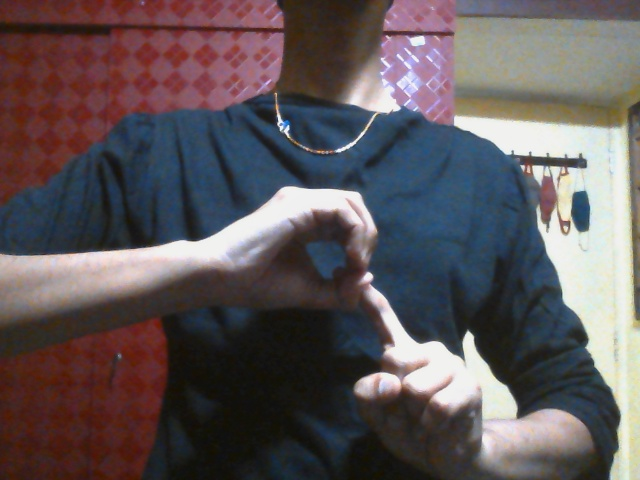Q: (220, 184, 482, 470)
